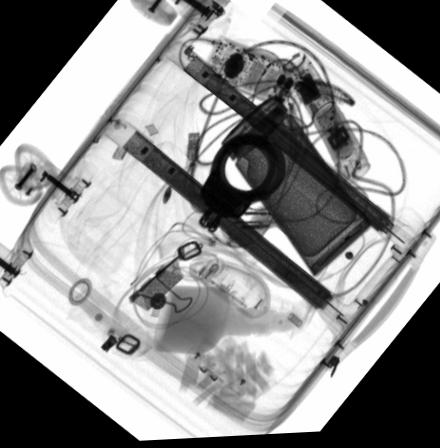Baton: (282, 56, 373, 187)
HandCuffs: (195, 130, 288, 237)
